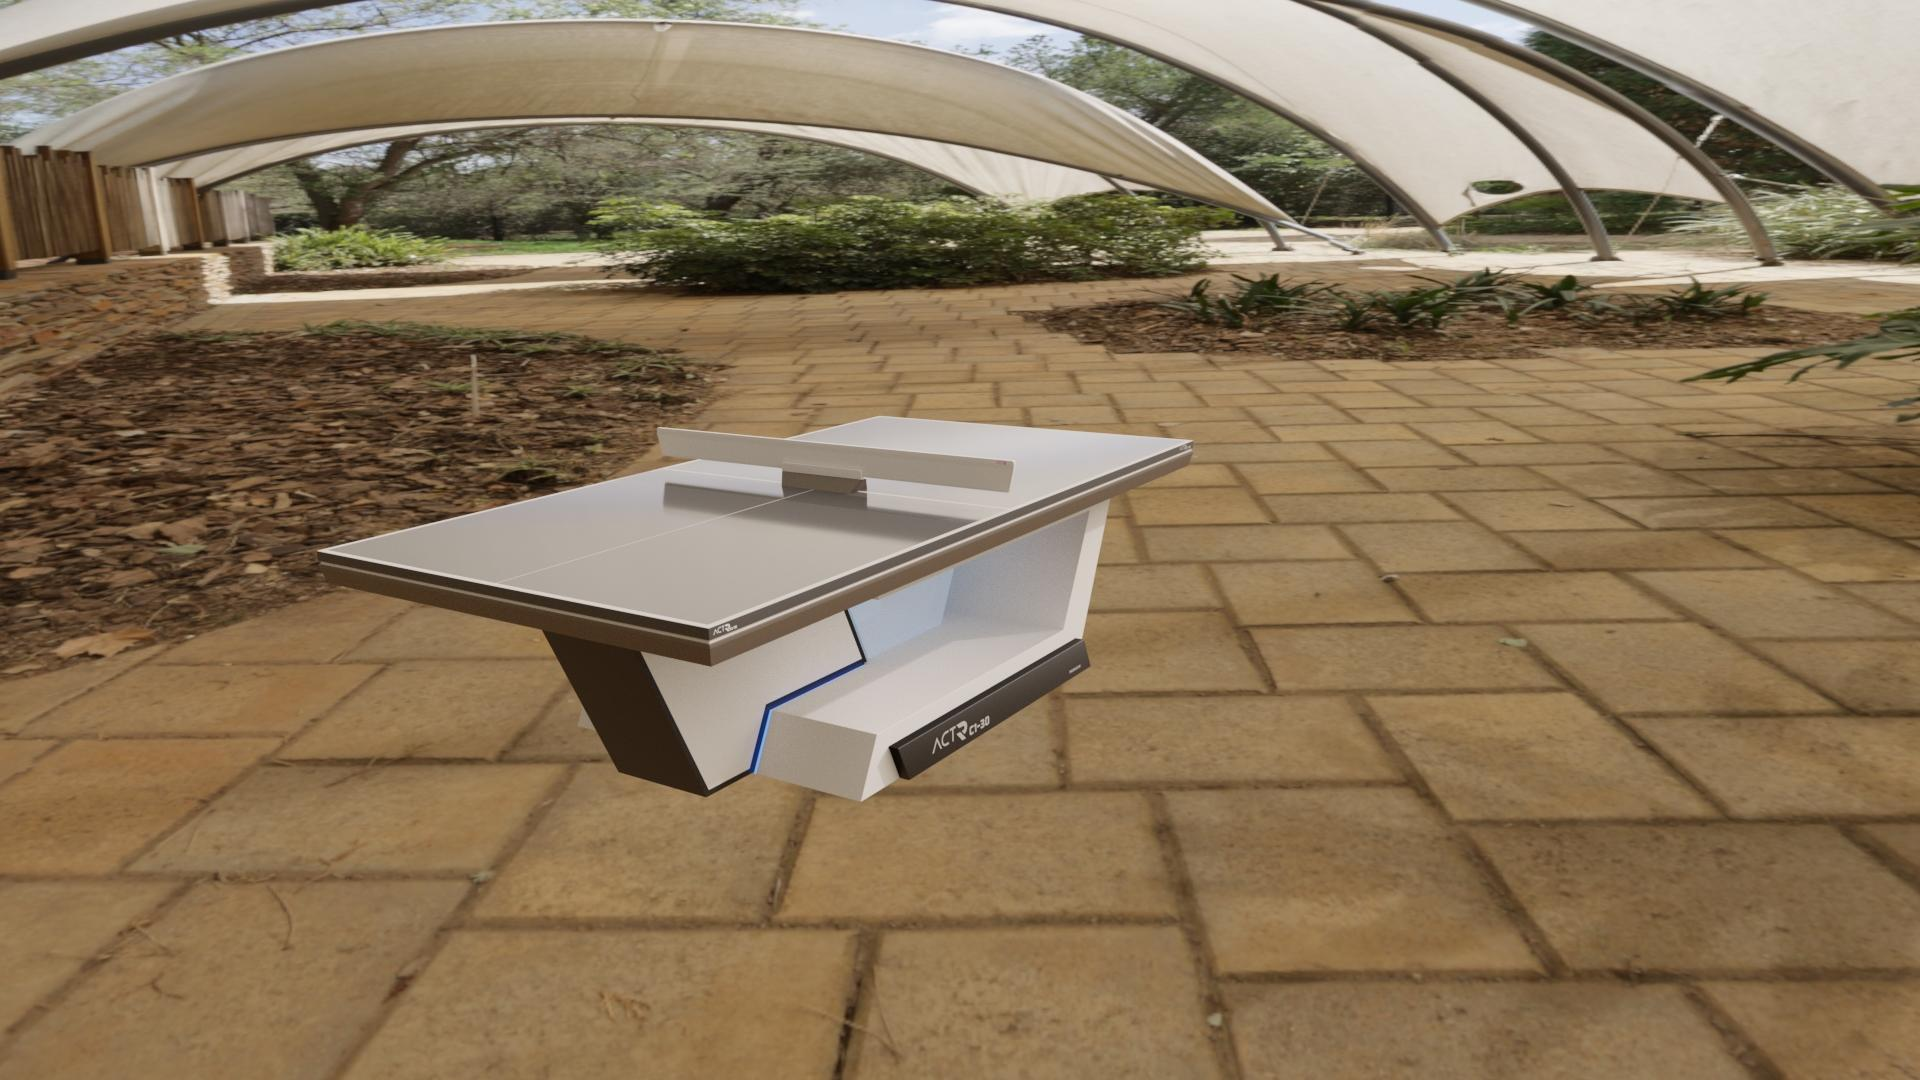table: (327, 417, 1187, 625)
